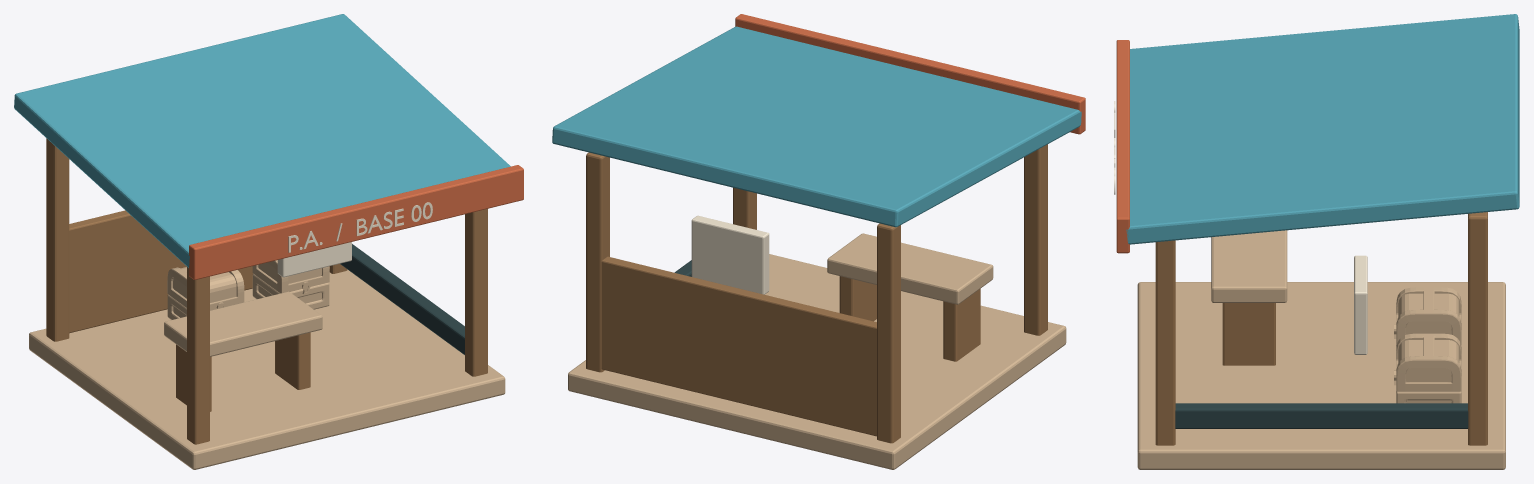
Rendered from PA_SettlementHub_Tier0.fbx.
3 views of the same model, side by side, from view 1: azimuth 30°, elevation 25°; view 2: azimuth 150°, elevation 25°; view 3: azimuth 270°, elevation 25° (orthographic). The views are drawn at different scales.
Parts seen in each view (by area): view 1: PA_SettlementHub_Tier0; view 2: PA_SettlementHub_Tier0; view 3: PA_SettlementHub_Tier0.
Boxes of the visible parts, bbox=[...] form: PA_SettlementHub_Tier0: bbox=[14, 14, 523, 469]; PA_SettlementHub_Tier0: bbox=[552, 14, 1085, 469]; PA_SettlementHub_Tier0: bbox=[1114, 14, 1519, 469].
Bounding box in the file's own units: 3.8 × 2.8 × 3.63.
